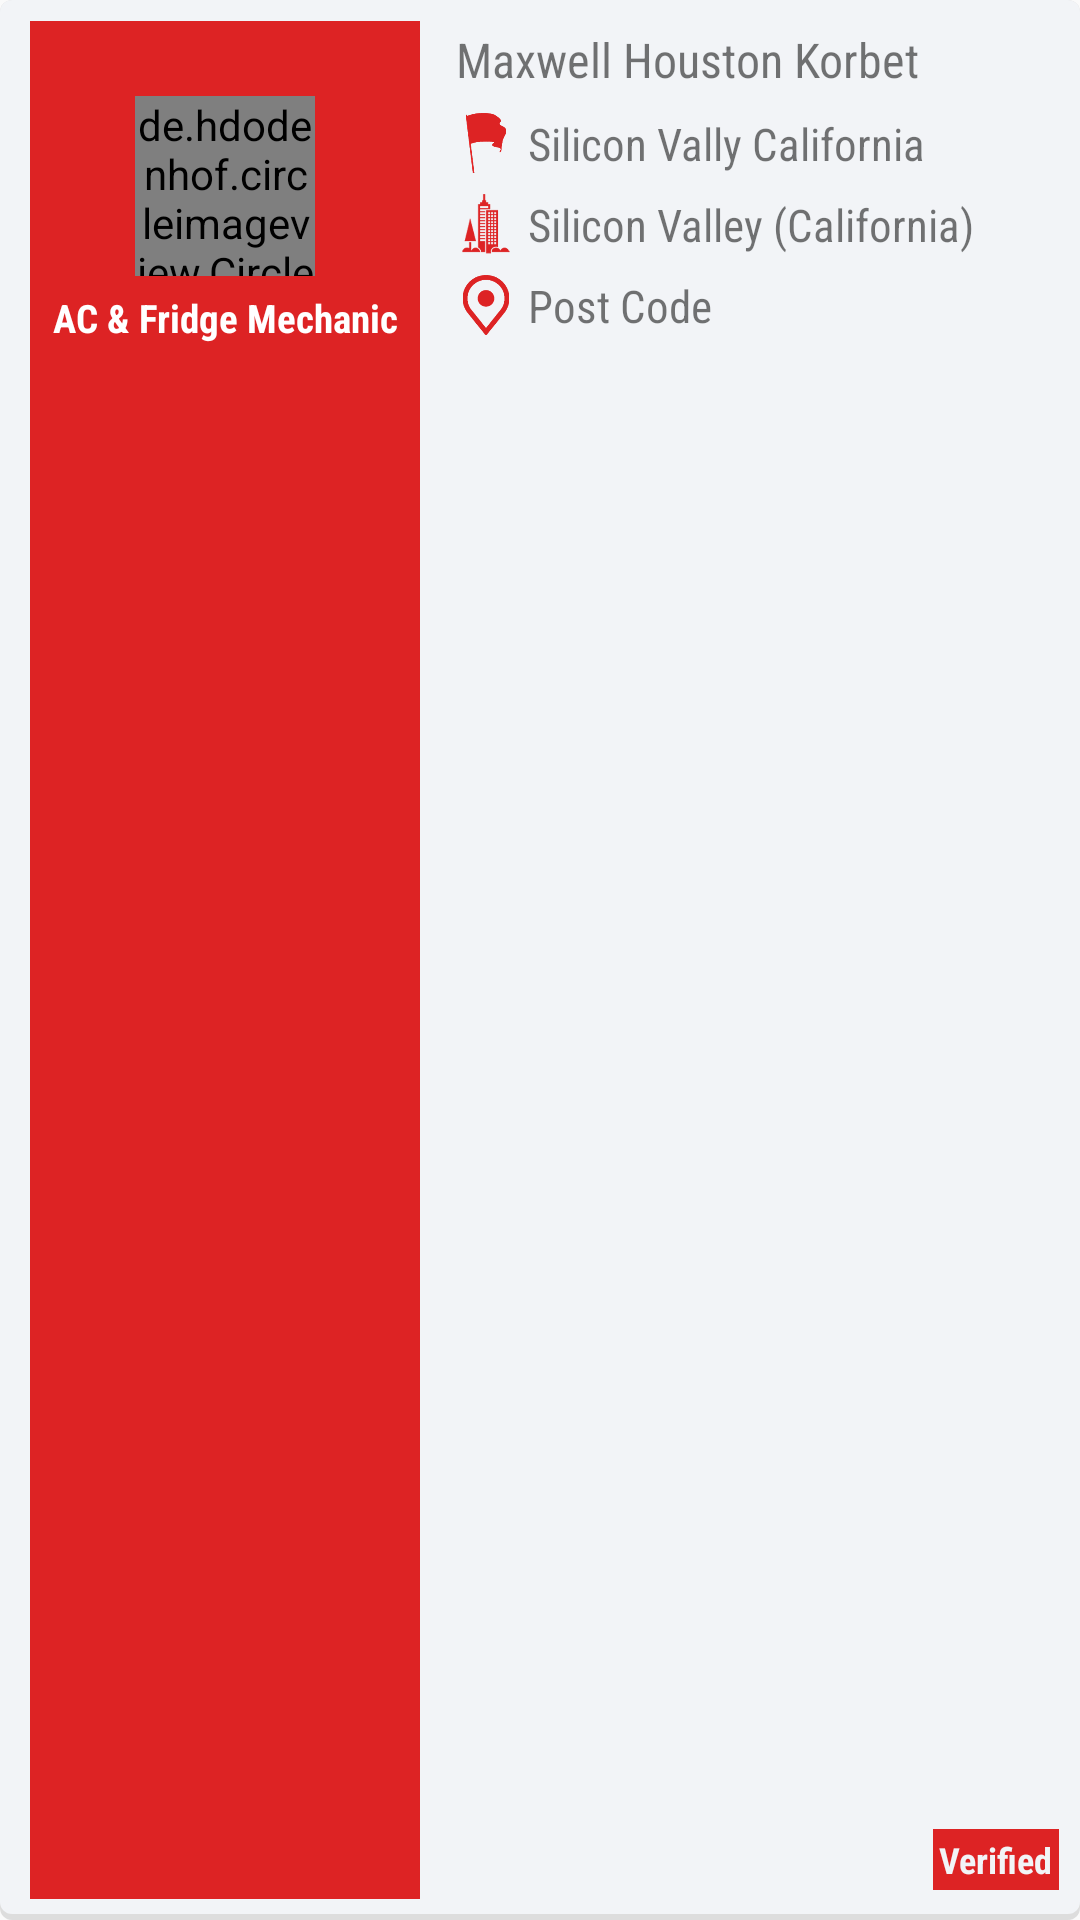

Icon bounding boxes for this 1080x1920 phone screenshot, format (x1, y1, x2, y2):
area: (466, 113, 506, 173)
city: (462, 194, 510, 254)
